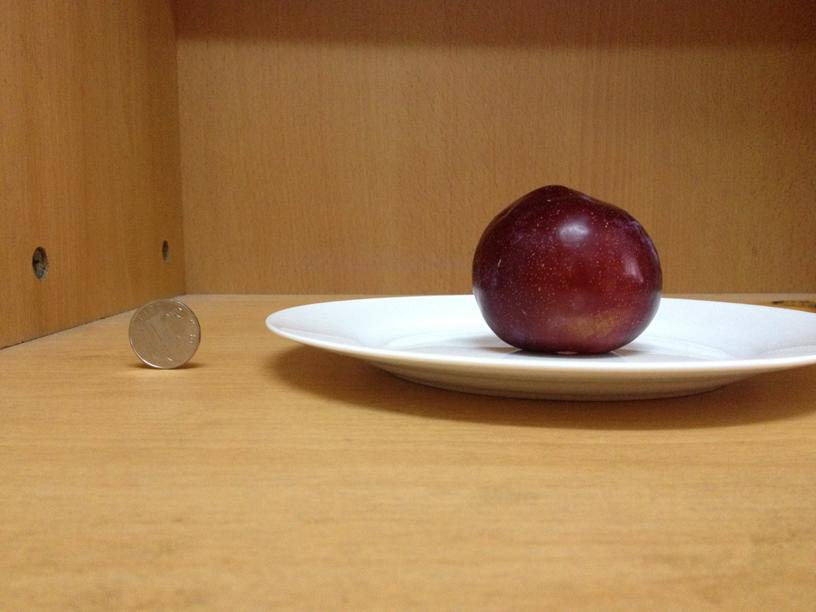coin: (124, 299, 202, 369)
plum: (471, 184, 666, 353)
